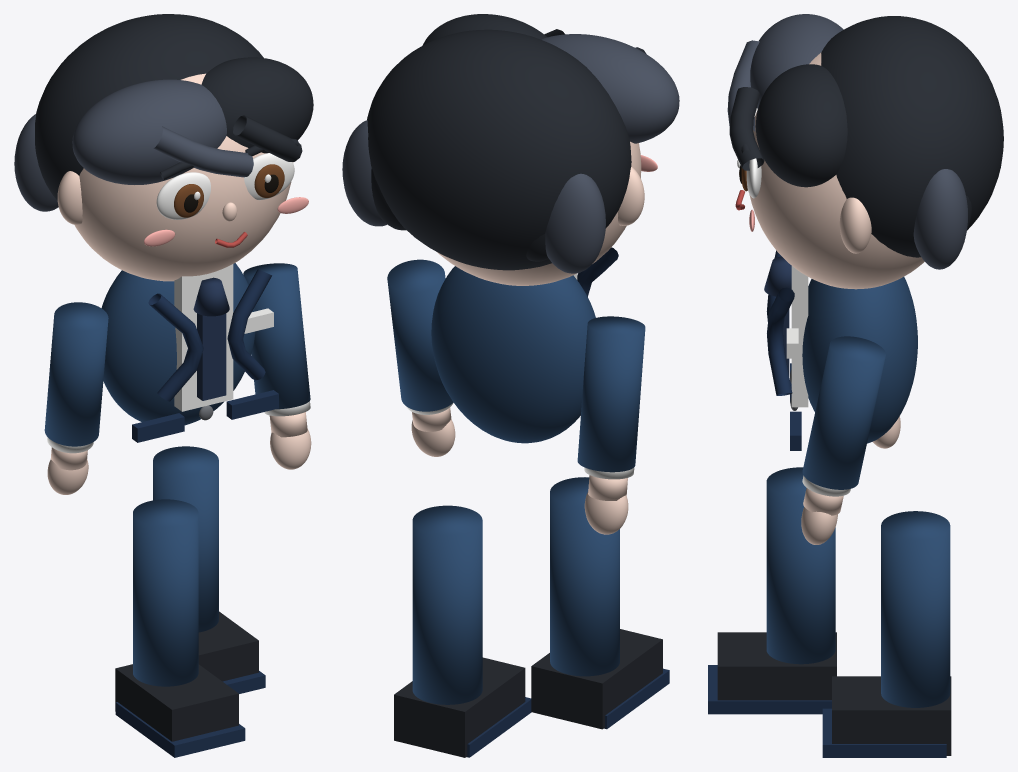
Rendered from guest-03-master.glb.
3 views of the same model, side by side, from view 1: azimuth 30°, elevation 25°; view 2: azimuth 150°, elevation 25°; view 3: azimuth 270°, elevation 25° (orthographic). The views are drawn at different scales.
Parts seen in each view (by area): view 1: Hair back, Head, Suit trouser -1, Side part left, Suit torso, Suit sleeve -1, Side part right, Suit trouser 1, Suit sleeve 1, Dress shoe -1, Shirt front, Dress shoe 1 (+21 smaller); view 2: Hair back, Suit torso, Suit trouser 1, Suit trouser -1, Suit sleeve -1, Side part left, Dress shoe 1, Dress shoe -1, Suit sleeve 1, Short hair lock 1, Short hair lock 7, Head (+10 smaller); view 3: Hair back, Suit trouser 1, Suit trouser -1, Head, Suit torso, Side part right, Suit sleeve 1, Dress shoe 1, Dress shoe -1, Short hair lock 7, Side part left, Shoe welt -1 (+9 smaller).
Boxes of the visible parts, x1=… form: Hair back: x1=35, y1=14, x2=263, y2=200; Head: x1=74, y1=73, x2=293, y2=281; Suit trouser -1: x1=133, y1=499, x2=198, y2=686; Side part left: x1=72, y1=79, x2=226, y2=184; Suit torso: x1=101, y1=263, x2=255, y2=425; Suit sleeve -1: x1=44, y1=302, x2=108, y2=446; Side part right: x1=201, y1=57, x2=313, y2=153; Suit trouser 1: x1=153, y1=446, x2=218, y2=632; Suit sleeve 1: x1=243, y1=263, x2=310, y2=409; Dress shoe -1: x1=115, y1=664, x2=238, y2=741; Shirt front: x1=174, y1=264, x2=233, y2=411; Dress shoe 1: x1=198, y1=611, x2=258, y2=681; Hair back: x1=367, y1=29, x2=631, y2=270; Suit torso: x1=431, y1=266, x2=595, y2=443; Suit trouser 1: x1=412, y1=505, x2=482, y2=704; Suit trouser -1: x1=550, y1=477, x2=619, y2=676; Suit sleeve -1: x1=577, y1=316, x2=645, y2=472; Side part left: x1=542, y1=34, x2=679, y2=143; Dress shoe 1: x1=394, y1=657, x2=525, y2=757; Dress shoe -1: x1=531, y1=629, x2=662, y2=729; Suit sleeve 1: x1=387, y1=259, x2=453, y2=411; Short hair lock 1: x1=545, y1=173, x2=605, y2=273; Short hair lock 7: x1=342, y1=120, x2=386, y2=226; Head: x1=437, y1=141, x2=641, y2=285; Hair back: x1=821, y1=16, x2=1003, y2=257; Suit trouser 1: x1=881, y1=511, x2=950, y2=707; Suit trouser -1: x1=766, y1=467, x2=835, y2=664; Head: x1=749, y1=52, x2=924, y2=289; Suit torso: x1=802, y1=277, x2=917, y2=443; Side part right: x1=755, y1=64, x2=847, y2=187; Suit sleeve 1: x1=802, y1=336, x2=885, y2=489; Dress shoe 1: x1=832, y1=676, x2=951, y2=755; Dress shoe -1: x1=717, y1=632, x2=836, y2=700; Short hair lock 7: x1=913, y1=169, x2=967, y2=269; Side part left: x1=750, y1=14, x2=843, y2=108; Shoe welt -1: x1=708, y1=665, x2=831, y2=714.
Bounding box in the file's own units: 1.25 × 3.19 × 1.24.
